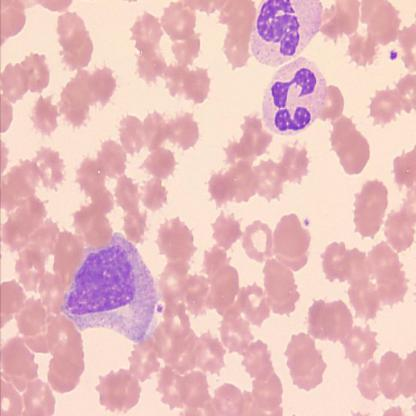Myelocyte: (66, 228, 159, 344)
